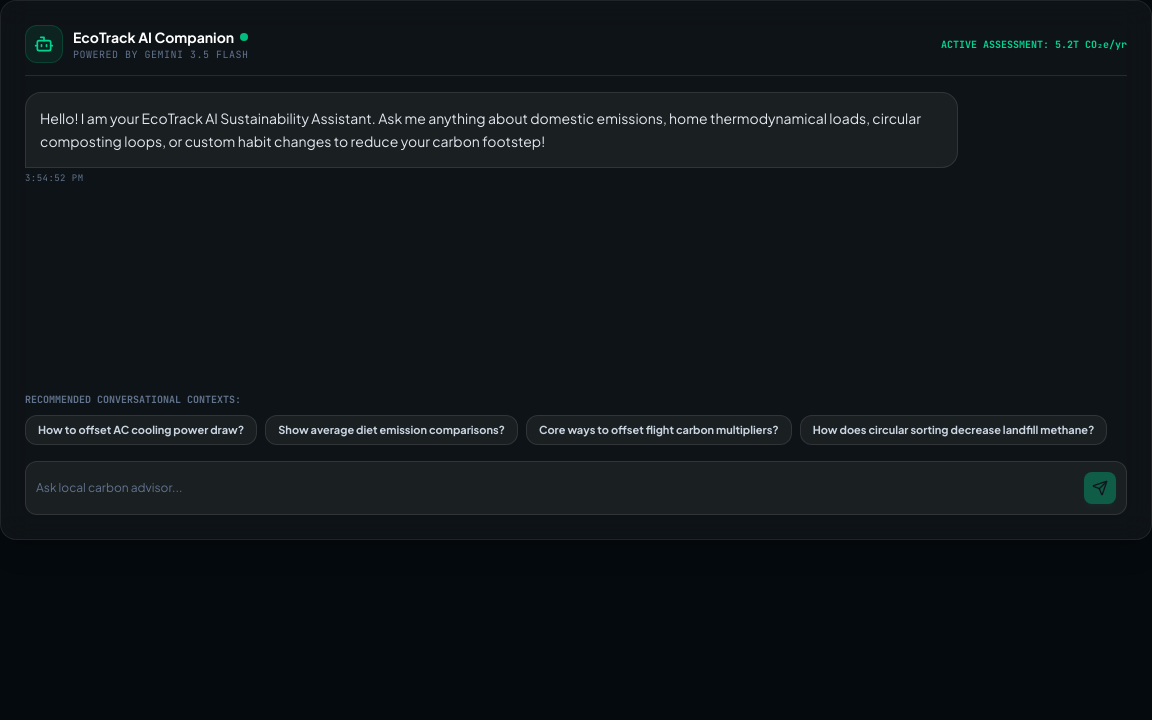
Scenario: AiAssistant › handles API errors gracefully
The image size is (1152, 720).
Type "Hello" into the field with placeholder "Ask local carbon advisor..." at [556, 488], box [36,480,1076,496]
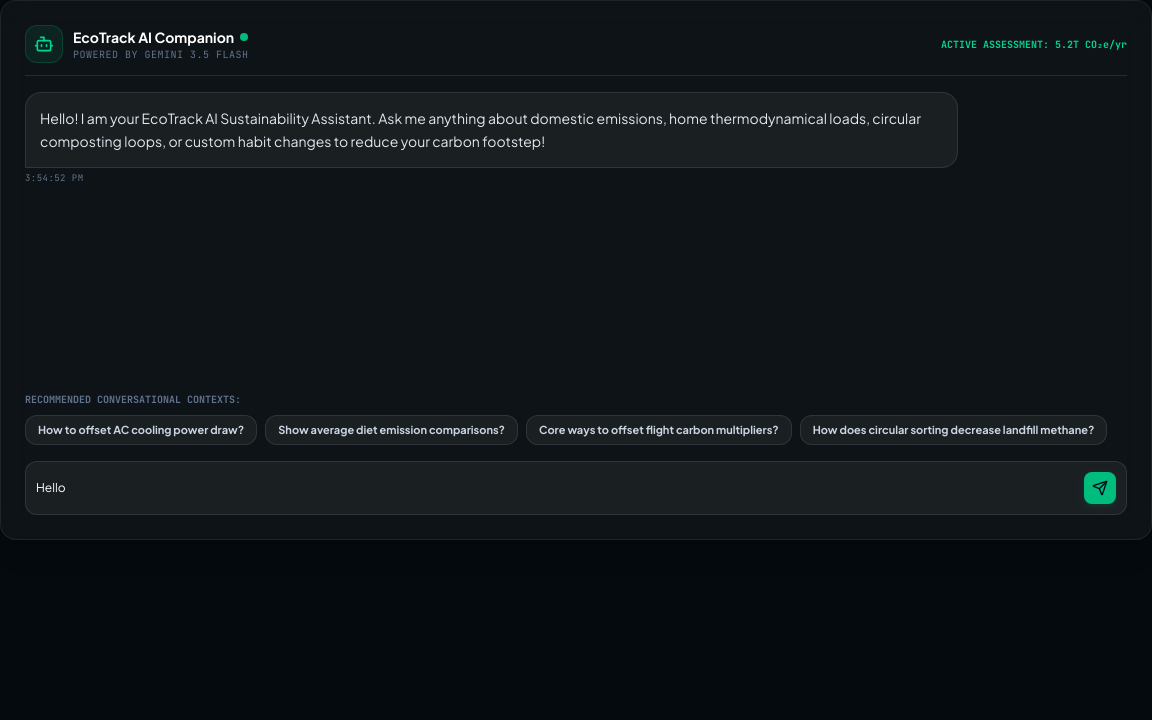
Click the button named "Send Message" at [1100, 488], box [1084,472,1116,504]
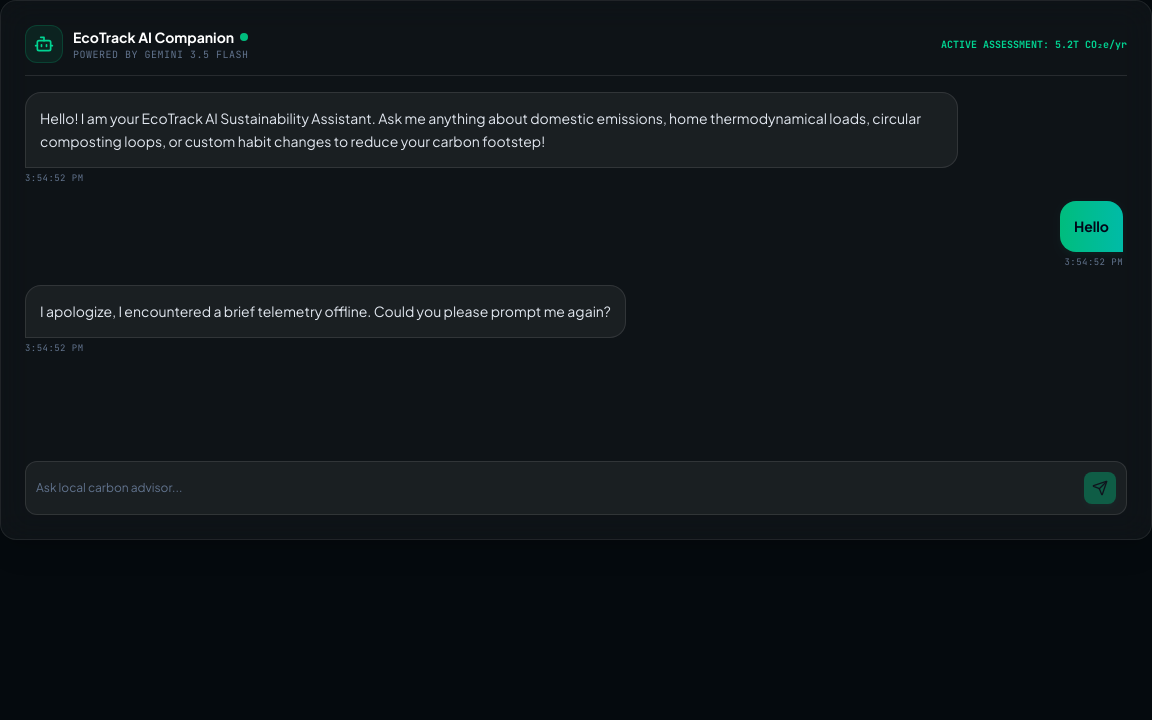
Check: the text "I apologize, I encountered a brief telemetry offline" is shown, box [40,302,611,320]
